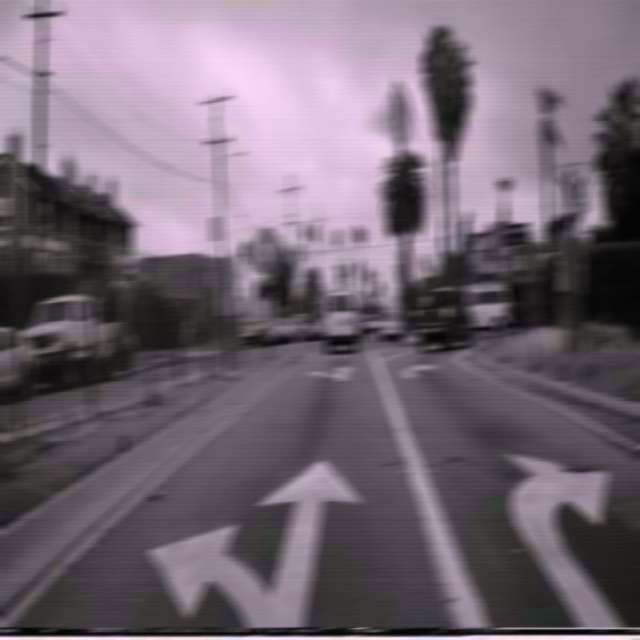stop: (254, 225, 281, 279)
